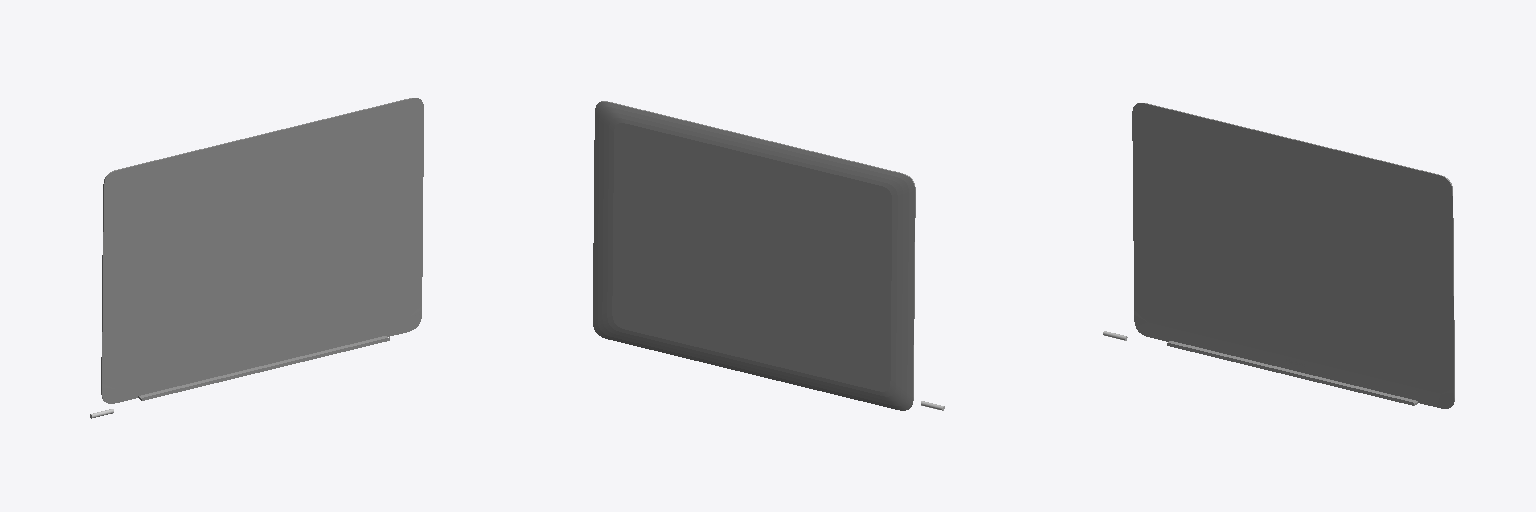
Rendered from screen.obj.
The picture shows the model from 3 angles: view 1: azimuth 30°, elevation 25°; view 2: azimuth 150°, elevation 25°; view 3: azimuth 330°, elevation 25°; orthographic projection.
Visible parts, largest first — view 1: Plane.002; view 2: Plane.002; view 3: Plane.002.
Boxes of the visible parts, box(x1,y1,x2,y2) form: Plane.002: box(101, 98, 423, 403); Plane.002: box(593, 101, 915, 410); Plane.002: box(1132, 103, 1454, 408).
Size of the model in its own units: 10.05 by 6.63 by 0.6633.